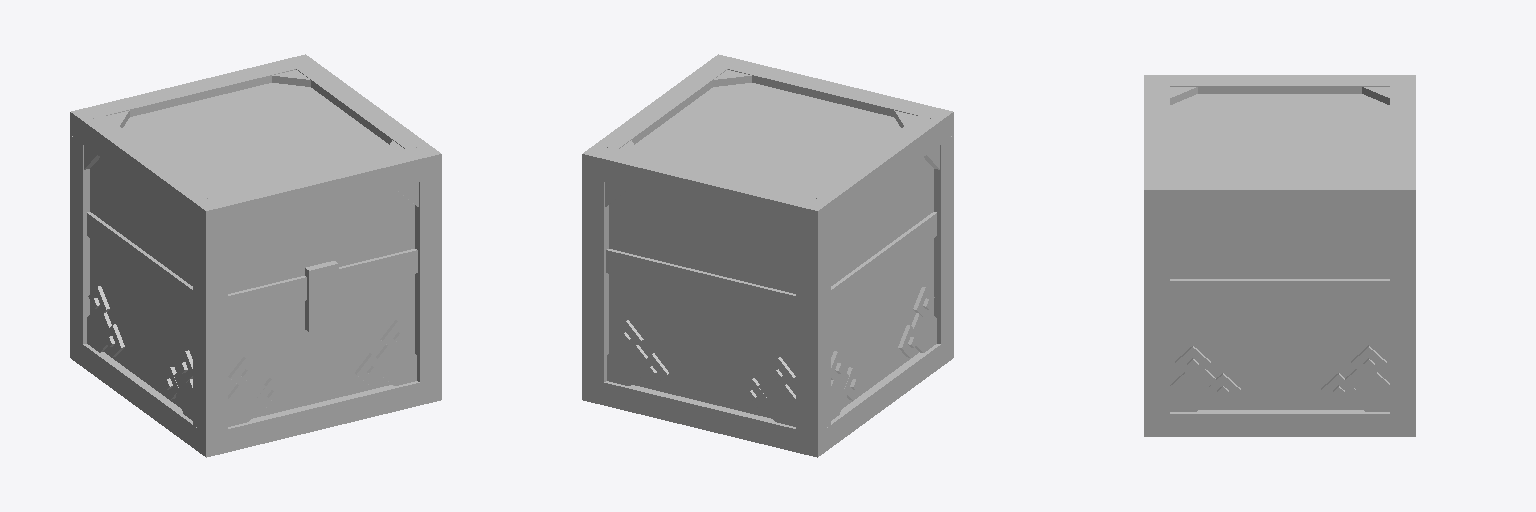
File: engineer_storage.obj
3 renders of one model, left to right at view 1: azimuth 30°, elevation 25°; view 2: azimuth 150°, elevation 25°; view 3: azimuth 270°, elevation 25°, orthographic.
Visible parts, largest first — view 1: chest, chest3, chest5, chest1, chest9, chest7, chest16, chest14, chest13, chest21, chest18, chest11 (+7 smaller); view 2: chest2, chest3, chest5, chest13, chest18, chest8, chest17, chest14, chest22, chest1, chest9, chest11 (+6 smaller); view 3: chest6, chest3, chest15, chest10, chest20, chest16, chest17, chest14, chest1, chest13, chest38, chest33 (+6 smaller).
Part boxes in pixels (bbox=[...]): chest: bbox=[228, 188, 414, 418]; chest3: bbox=[123, 83, 388, 190]; chest5: bbox=[90, 157, 192, 407]; chest1: bbox=[193, 145, 441, 233]; chest9: bbox=[193, 225, 227, 434]; chest7: bbox=[193, 377, 441, 457]; chest16: bbox=[415, 177, 441, 381]; chest14: bbox=[83, 116, 215, 223]; chest13: bbox=[70, 54, 317, 143]; chest21: bbox=[228, 249, 417, 318]; chest18: bbox=[70, 135, 89, 343]; chest11: bbox=[83, 344, 192, 447]; chest2: bbox=[609, 188, 795, 418]; chest3: bbox=[635, 83, 900, 190]; chest5: bbox=[831, 157, 933, 408]; chest13: bbox=[582, 145, 830, 233]; chest18: bbox=[796, 225, 830, 434]; chest8: bbox=[582, 377, 830, 457]; chest17: bbox=[582, 177, 608, 381]; chest14: bbox=[808, 116, 940, 223]; chest22: bbox=[606, 249, 795, 318]; chest1: bbox=[706, 54, 953, 143]; chest9: bbox=[934, 135, 953, 343]; chest11: bbox=[831, 344, 940, 447]; chest6: bbox=[1170, 213, 1389, 409]; chest3: bbox=[1170, 94, 1389, 178]; chest15: bbox=[1170, 179, 1389, 212]; chest10: bbox=[1170, 410, 1389, 436]; chest20: bbox=[1170, 279, 1389, 303]; chest16: bbox=[1144, 213, 1169, 413]; chest17: bbox=[1390, 213, 1415, 413]; chest14: bbox=[1170, 75, 1389, 93]; chest1: bbox=[1144, 75, 1169, 212]; chest13: bbox=[1390, 75, 1415, 212]; chest38: bbox=[1170, 369, 1215, 411]; chest33: bbox=[1345, 369, 1389, 411].
Bounding box in the file's own units: 1 × 1 × 1.